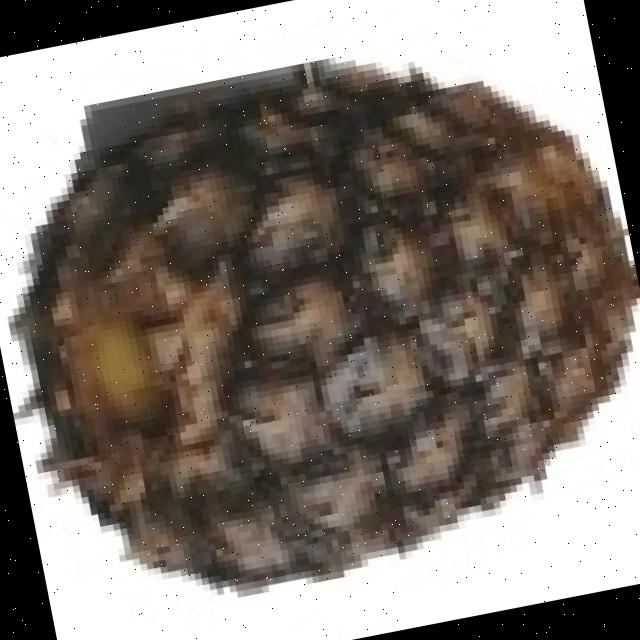pineapple: (35, 77, 640, 600)
